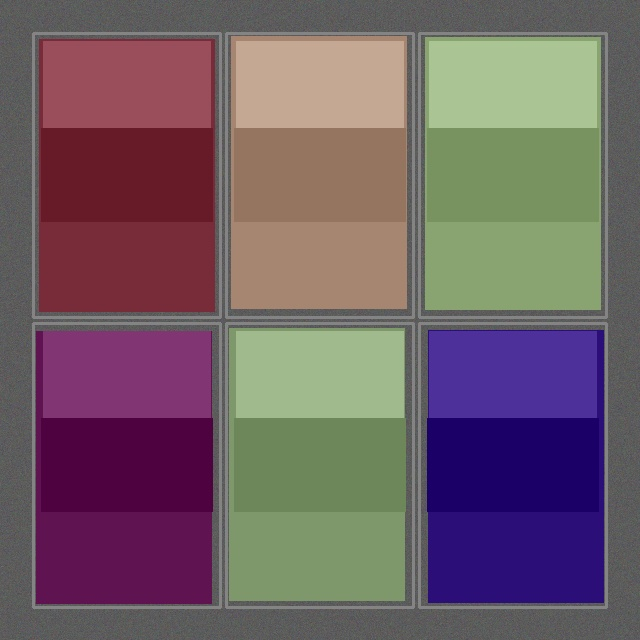space-occupied: (35, 35, 218, 315), (228, 35, 411, 315), (421, 35, 604, 315), (35, 325, 218, 605), (228, 325, 411, 605), (421, 325, 604, 605)
